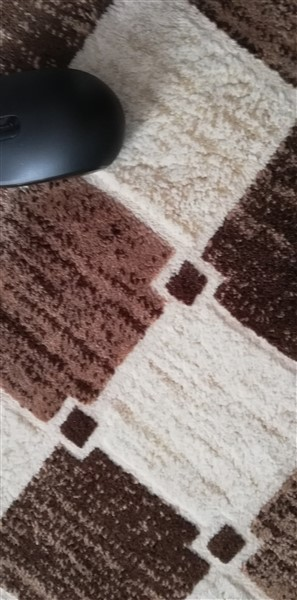mouse: (1, 61, 132, 193)
